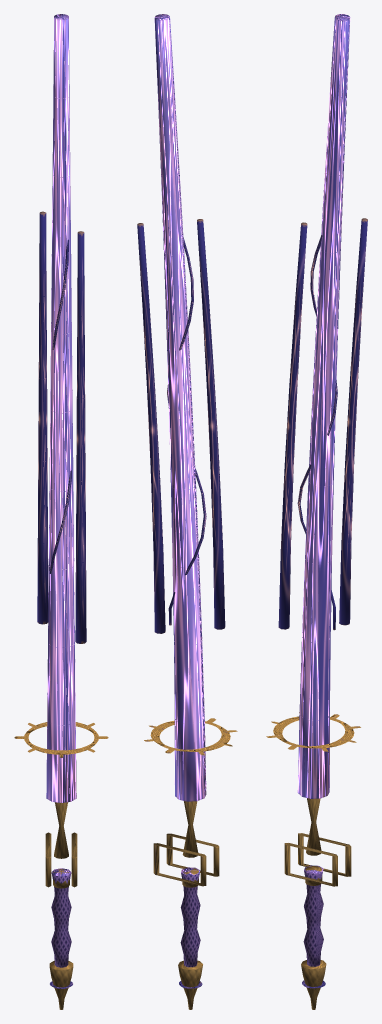
The model's file is sword_10_chronoglass_paradox.glb.
3 renders of one model, left to right at view 1: azimuth 90°, elevation 25°; view 2: azimuth 150°, elevation 25°; view 3: azimuth 330°, elevation 25°, orthographic. The views are drawn at different scales.
Parts seen in each view (by area): view 1: Blade_ChronoSaber, Echo_ParadoxShards, Grip_ChronoWrap, Gear_ChronoRing, Guard_ChronoGate, Spiral_TimeCoil, Pommel_HourglassBulb, Core_HourglassCore; view 2: Blade_ChronoSaber, Echo_ParadoxShards, Grip_ChronoWrap, Guard_ChronoGate, Spiral_TimeCoil, Gear_ChronoRing, Pommel_HourglassBulb, Core_HourglassCore; view 3: Blade_ChronoSaber, Echo_ParadoxShards, Grip_ChronoWrap, Guard_ChronoGate, Gear_ChronoRing, Spiral_TimeCoil, Pommel_HourglassBulb, Core_HourglassCore.
Boxes of the visible parts, x1=… form: Blade_ChronoSaber: x1=46, y1=14, x2=76, y2=802; Echo_ParadoxShards: x1=37, y1=211, x2=86, y2=643; Grip_ChronoWrap: x1=51, y1=868, x2=71, y2=967; Gear_ChronoRing: x1=14, y1=722, x2=108, y2=757; Guard_ChronoGate: x1=45, y1=832, x2=77, y2=887; Spiral_TimeCoil: x1=49, y1=239, x2=71, y2=573; Pommel_HourglassBulb: x1=49, y1=960, x2=73, y2=1009; Core_HourglassCore: x1=54, y1=802, x2=68, y2=858; Blade_ChronoSaber: x1=154, y1=14, x2=206, y2=801; Echo_ParadoxShards: x1=137, y1=219, x2=225, y2=633; Grip_ChronoWrap: x1=180, y1=867, x2=200, y2=967; Guard_ChronoGate: x1=153, y1=833, x2=219, y2=886; Spiral_TimeCoil: x1=167, y1=237, x2=206, y2=625; Gear_ChronoRing: x1=144, y1=718, x2=237, y2=755; Pommel_HourglassBulb: x1=178, y1=960, x2=202, y2=1009; Core_HourglassCore: x1=182, y1=801, x2=198, y2=857; Blade_ChronoSaber: x1=297, y1=14, x2=350, y2=798; Echo_ParadoxShards: x1=278, y1=218, x2=367, y2=629; Grip_ChronoWrap: x1=303, y1=865, x2=323, y2=966; Guard_ChronoGate: x1=284, y1=833, x2=351, y2=886; Gear_ChronoRing: x1=266, y1=712, x2=360, y2=751; Spiral_TimeCoil: x1=297, y1=235, x2=337, y2=630; Pommel_HourglassBulb: x1=301, y1=960, x2=326, y2=1009; Core_HourglassCore: x1=306, y1=798, x2=321, y2=855.
Bounding box in the file's own units: 0.2381 × 2.6 × 0.228.
1 material, 1 textured.
